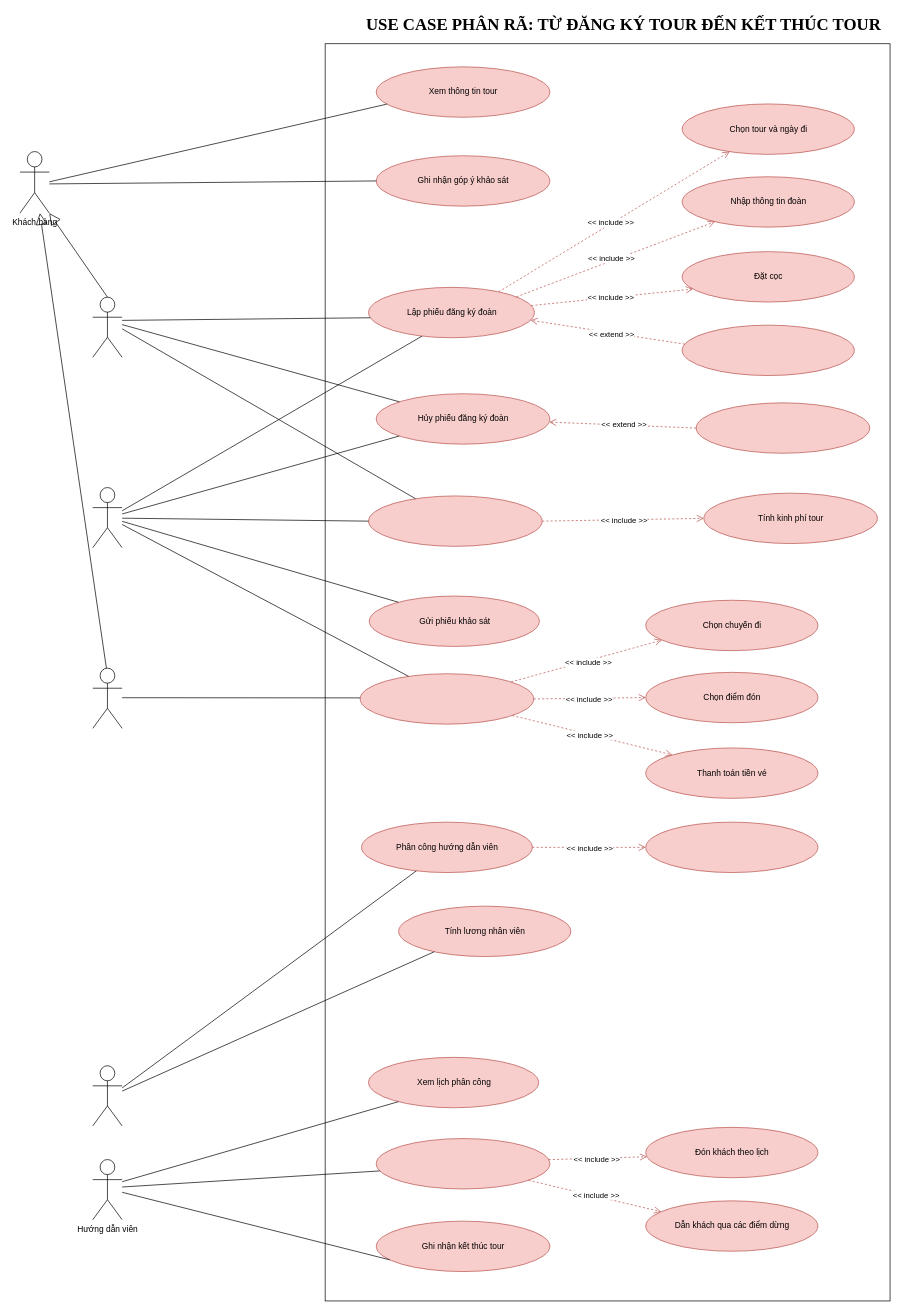
This 902x1313 diagram has some shape labels left out. Here are the shapes that lost their labels. From the top down, the centre of each, then its label:
At [107,326]: "Khách đoàn".
At [767,350]: "Nhập danh sách thành viên".
At [782,427]: "Xử lý mất cọc".
At [107,517]: "Nhân viên bán vé".
At [455,520]: "Thanh toán kinh phí sau tour".
At [107,697]: "Khách lẻ".
At [446,698]: "Bán vé theo chuyến".
At [731,847]: "Kiểm tra chồng lịch".
At [107,1095]: "Quản lý".
At [463,1163]: "Thực hiện tour".
